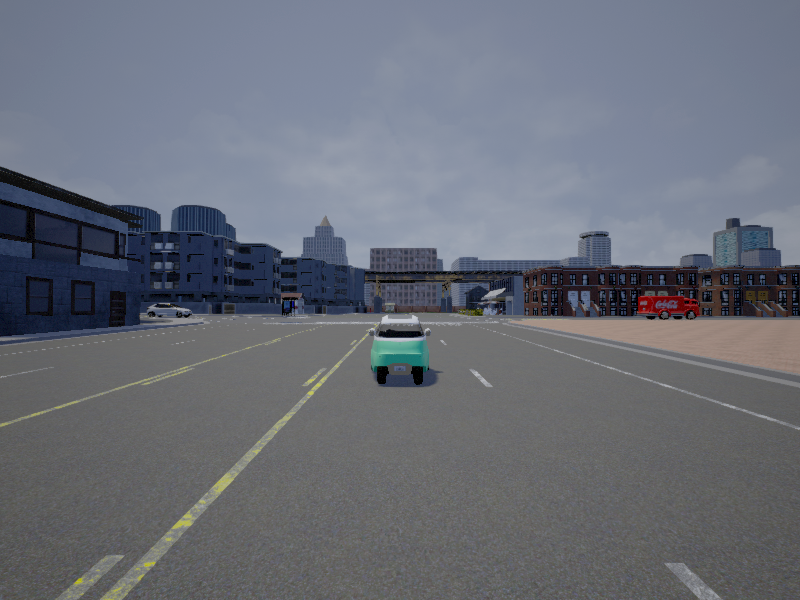Benign: (369, 315, 431, 387), (637, 296, 700, 321), (145, 302, 191, 318)
